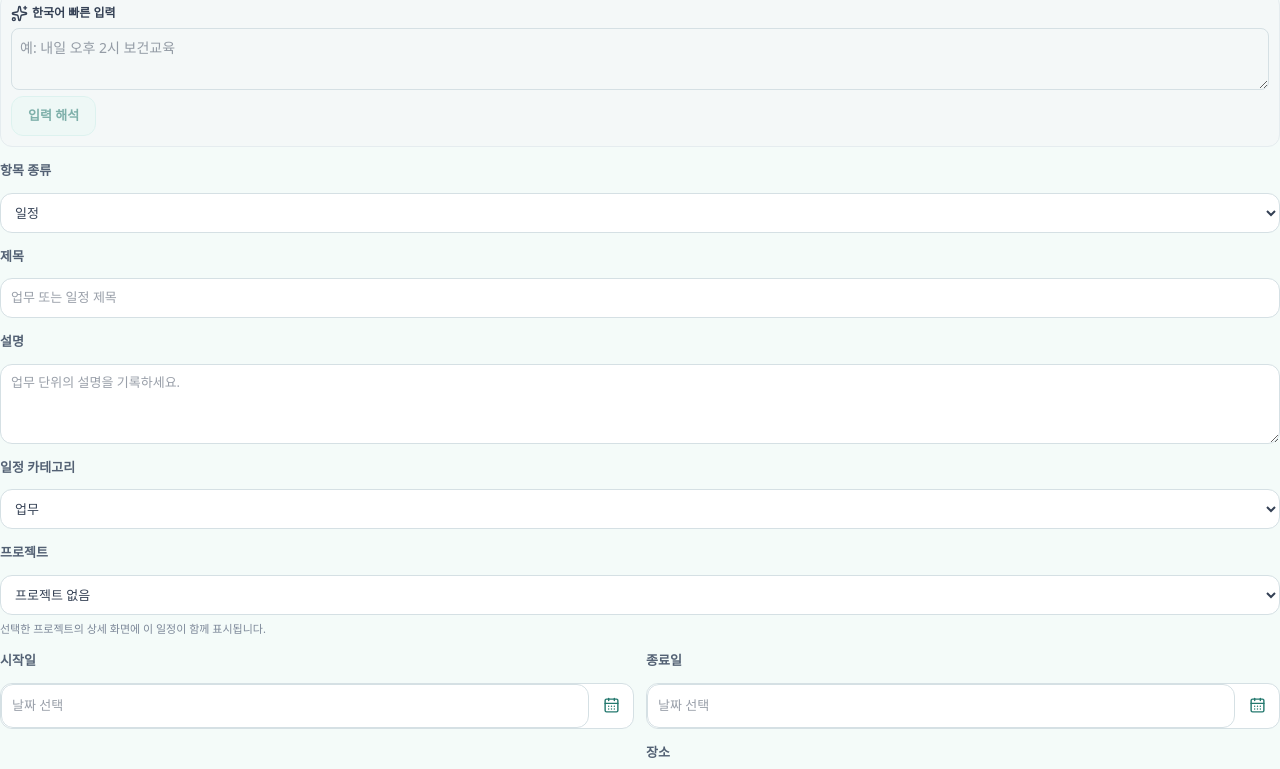
Test: CreateItemForm Phase 5 workflows › shows tournament details only for a tournament category
Step 1. Select "대회" in the dropdown labelled "일정 카테고리" → coordinates (640, 509), box top-left (0, 489), bottom-right (1279, 529)
(page scrolled)
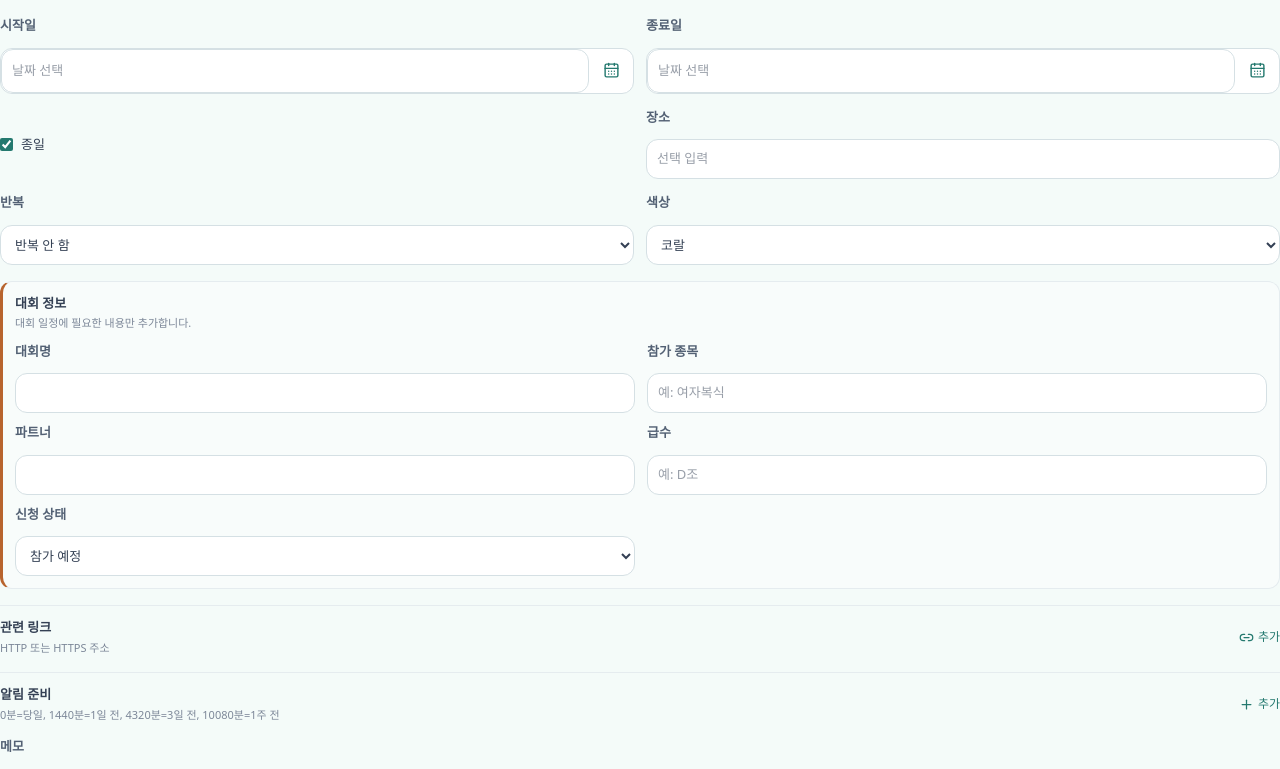
Now the field labelled "대회명" is shown
Now the field labelled "참가 종목" is shown, box top-left (647, 373), bottom-right (1267, 413)
Now the field labelled "파트너" is shown, box top-left (15, 454), bottom-right (635, 494)
Step 2. Type "성동구 오픈대회" into the field labelled "대회명" → coordinates (325, 393), box top-left (15, 373), bottom-right (635, 413)
(page scrolled)
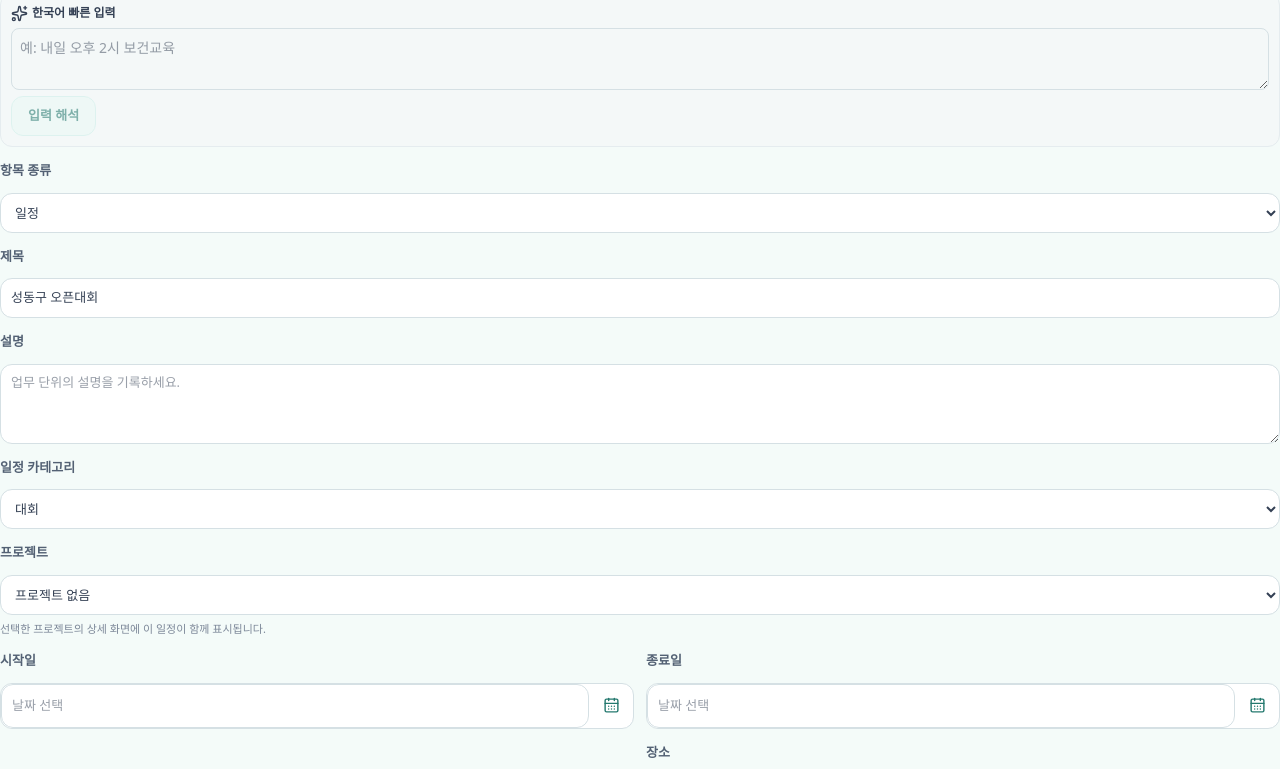
Now the field labelled "제목" holds "성동구 오픈대회", box top-left (0, 278), bottom-right (1279, 318)
